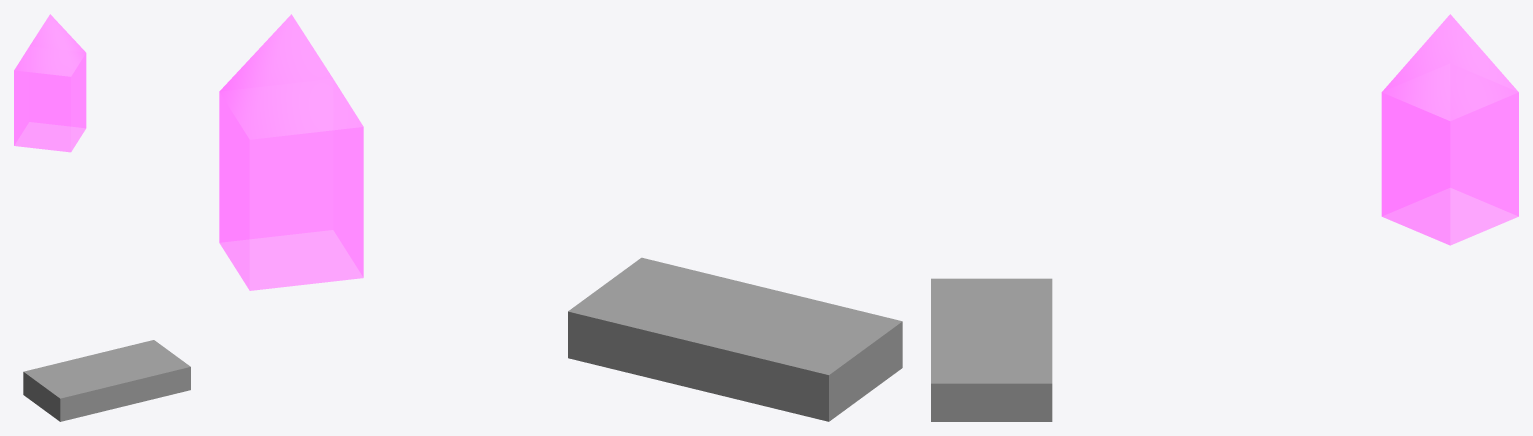
Rendered from iridium.fbx.
The picture shows the model from 3 angles, left to right: view 1: azimuth 30°, elevation 25°; view 2: azimuth 150°, elevation 25°; view 3: azimuth 270°, elevation 25°; orthographic projection. The views are drawn at different scales.
Visible parts, largest first — view 1: pCube15, pCylinder5; view 2: pCube15, pCylinder5; view 3: pCylinder5, pCube15.
Part boxes in pixels (x1,y1,x2,y2): pCube15: [23, 340, 190, 421]; pCylinder5: [14, 14, 86, 152]; pCube15: [568, 257, 902, 421]; pCylinder5: [219, 14, 363, 290]; pCylinder5: [1381, 14, 1518, 245]; pCube15: [931, 278, 1052, 421].
Bounding box in the file's own units: 2.88 × 3.84 × 4.85.
